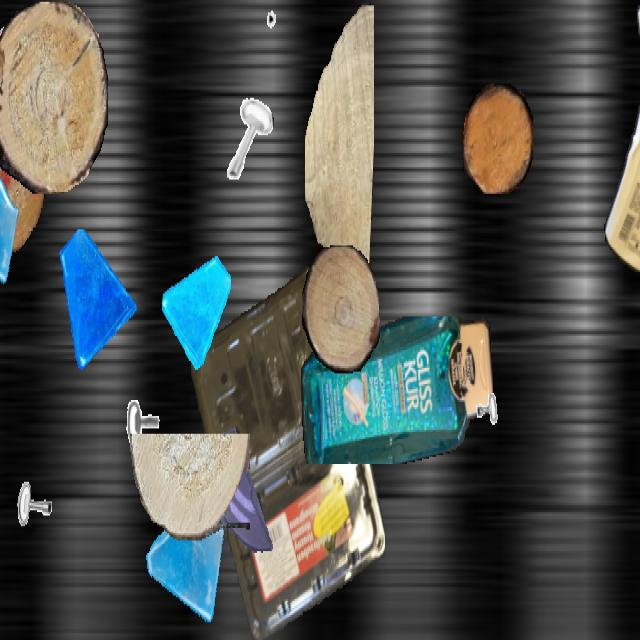glass: (144, 489, 228, 638), (57, 230, 137, 372), (198, 416, 278, 558), (162, 247, 230, 368), (0, 172, 21, 294)
metal: (11, 439, 63, 532), (223, 92, 273, 182), (124, 366, 170, 448), (467, 351, 511, 428), (266, 2, 306, 73), (0, 2, 25, 108)
plastic: (191, 265, 385, 638), (301, 316, 493, 462), (598, 2, 640, 272)
wood: (0, 2, 107, 194), (305, 1, 373, 282), (130, 434, 250, 540), (0, 36, 47, 252), (302, 245, 380, 374), (463, 84, 533, 194)
